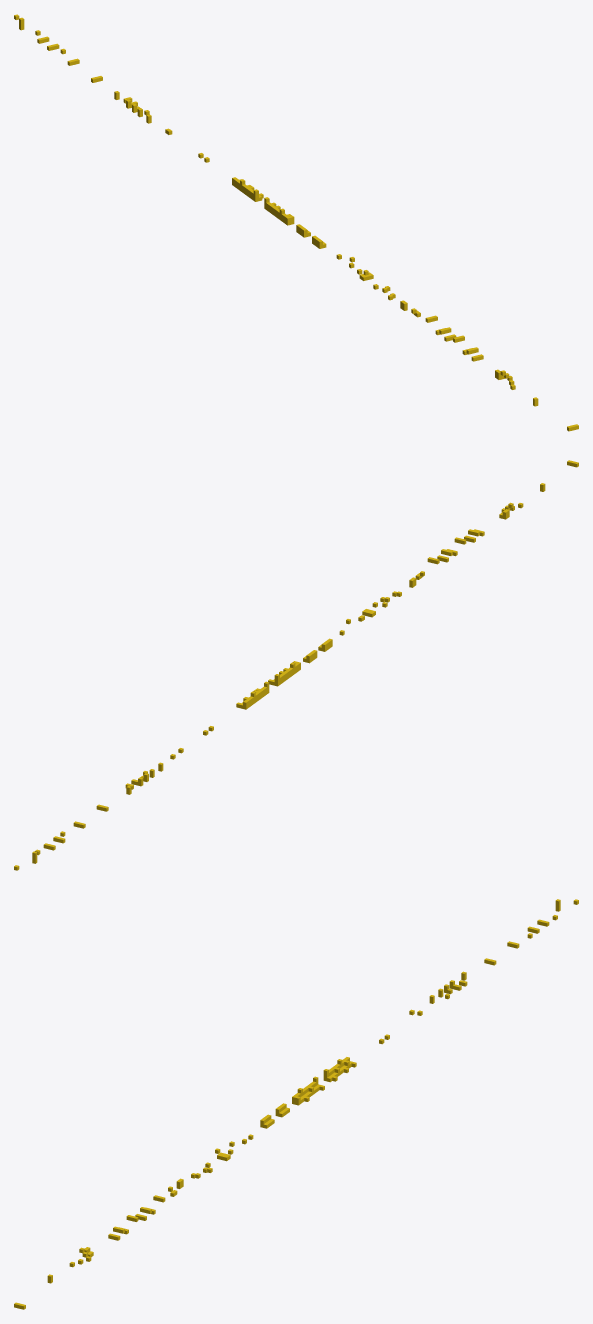
File: Wall lvl4.fbx
The picture shows the model from 3 angles, top to bottom: view 1: azimuth 30°, elevation 25°; view 2: azimuth 150°, elevation 25°; view 3: azimuth 330°, elevation 25°; orthographic projection.
Bounding box in the file's own units: 600 × 600 × 57700.
